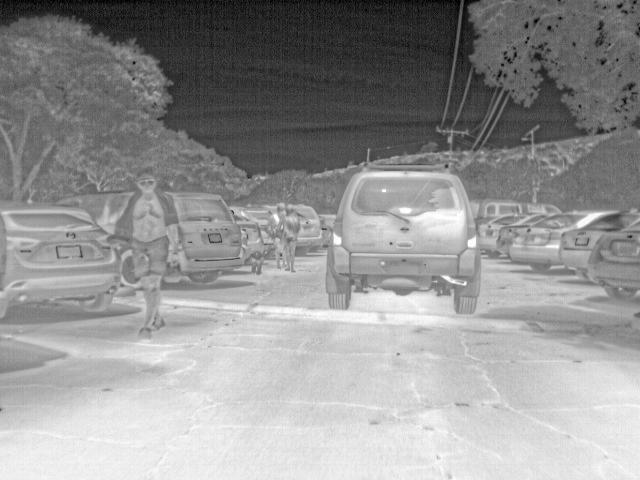car: (326, 165, 484, 315), (2, 201, 123, 317), (160, 189, 246, 286), (509, 210, 619, 272), (557, 212, 640, 280), (585, 218, 640, 300), (52, 190, 138, 236), (470, 198, 563, 229), (495, 213, 548, 254), (480, 213, 528, 257), (232, 204, 266, 264), (300, 204, 323, 254)
dog: (247, 251, 267, 276)
person: (114, 173, 181, 344), (284, 206, 301, 272), (273, 202, 285, 272)
